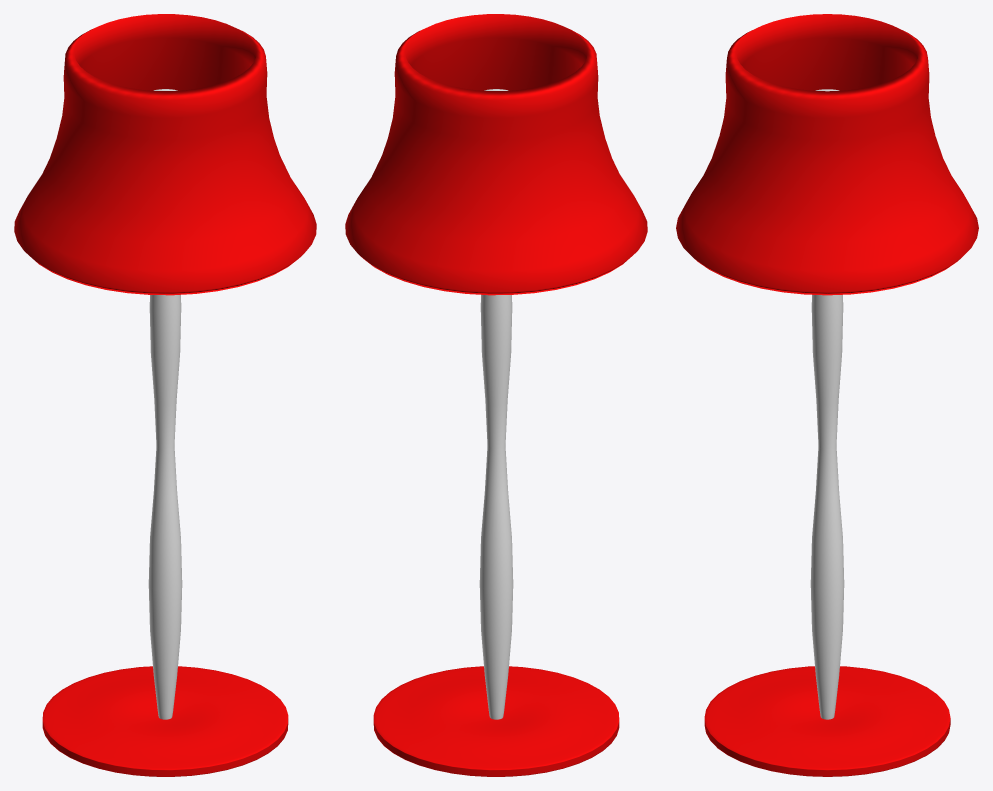
Rendered from Big_Lamp.fbx.
3 renders of one model, left to right at view 1: azimuth 30°, elevation 25°; view 2: azimuth 150°, elevation 25°; view 3: azimuth 270°, elevation 25°, orthographic.
Parts seen in each view (by area): view 1: Lamp_Shade, Stand, Pipe; view 2: Lamp_Shade, Stand, Pipe; view 3: Lamp_Shade, Stand, Pipe.
Boxes of the visible parts, x1,y1,x2,y2 form: Lamp_Shade: (14, 14, 316, 295); Stand: (42, 666, 288, 776); Pipe: (148, 295, 182, 719); Lamp_Shade: (345, 14, 647, 295); Stand: (373, 666, 619, 776); Pipe: (479, 294, 513, 719); Lamp_Shade: (676, 14, 978, 295); Stand: (704, 666, 950, 776); Pipe: (810, 295, 844, 719).
Size of the model in its own units: 1.27 by 3.11 by 1.27.
